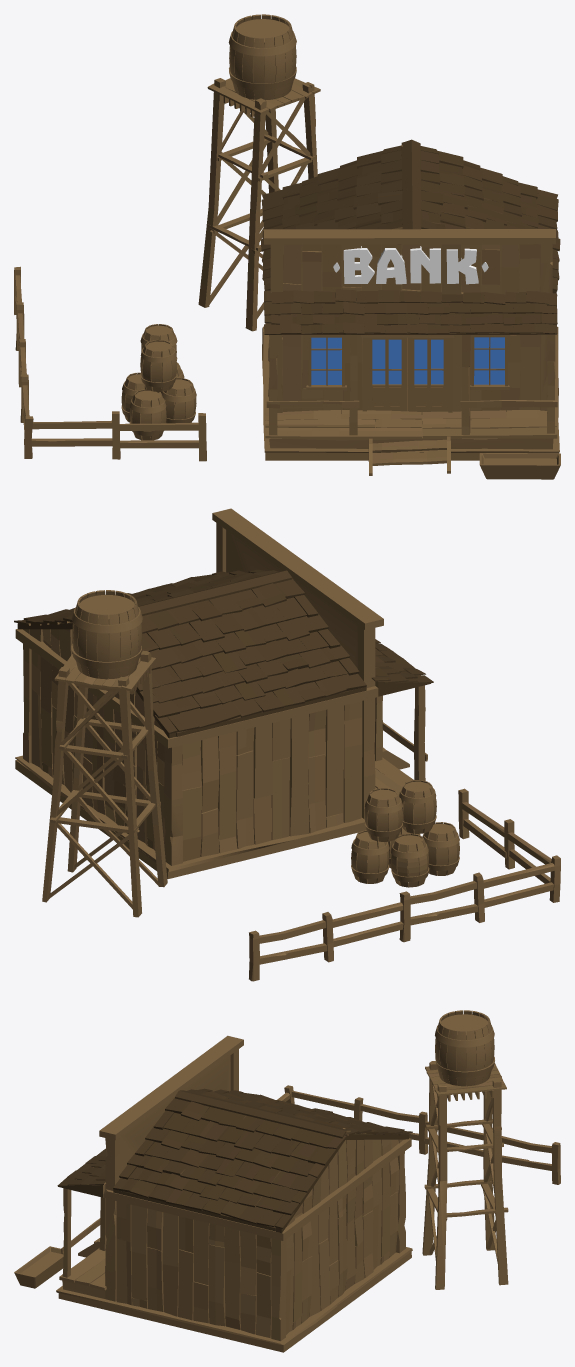
File: BANK3.fbx
3 views of the same model, one above another, from view 1: azimuth 30°, elevation 25°; view 2: azimuth 150°, elevation 25°; view 3: azimuth 270°, elevation 25° (orthographic). The views are drawn at different scales.
Visible parts, largest first — view 1: bank_Baked, bank_elements_Baked, N, B, K, A; view 2: bank_Baked, bank_elements_Baked; view 3: bank_Baked, bank_elements_Baked.
Boxes of the visible parts, left/top/right/bottom form: bank_Baked: left=261, top=139, right=560, bottom=479; bank_elements_Baked: left=14, top=14, right=320, bottom=461; N: left=410, top=246, right=440, bottom=283; B: left=343, top=246, right=374, bottom=283; K: left=446, top=248, right=478, bottom=284; A: left=376, top=248, right=406, bottom=284; bank_Baked: left=14, top=508, right=433, bottom=878; bank_elements_Baked: left=42, top=590, right=560, bottom=981; bank_Baked: left=14, top=1035, right=412, bottom=1352; bank_elements_Baked: left=277, top=1010, right=560, bottom=1289.
Bounding box in the file's own units: 1359 × 691 × 1371.
